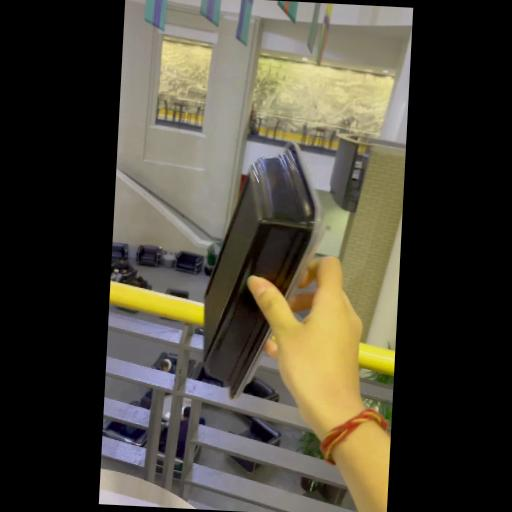rigid_plastic_container: (156, 128, 338, 426)
